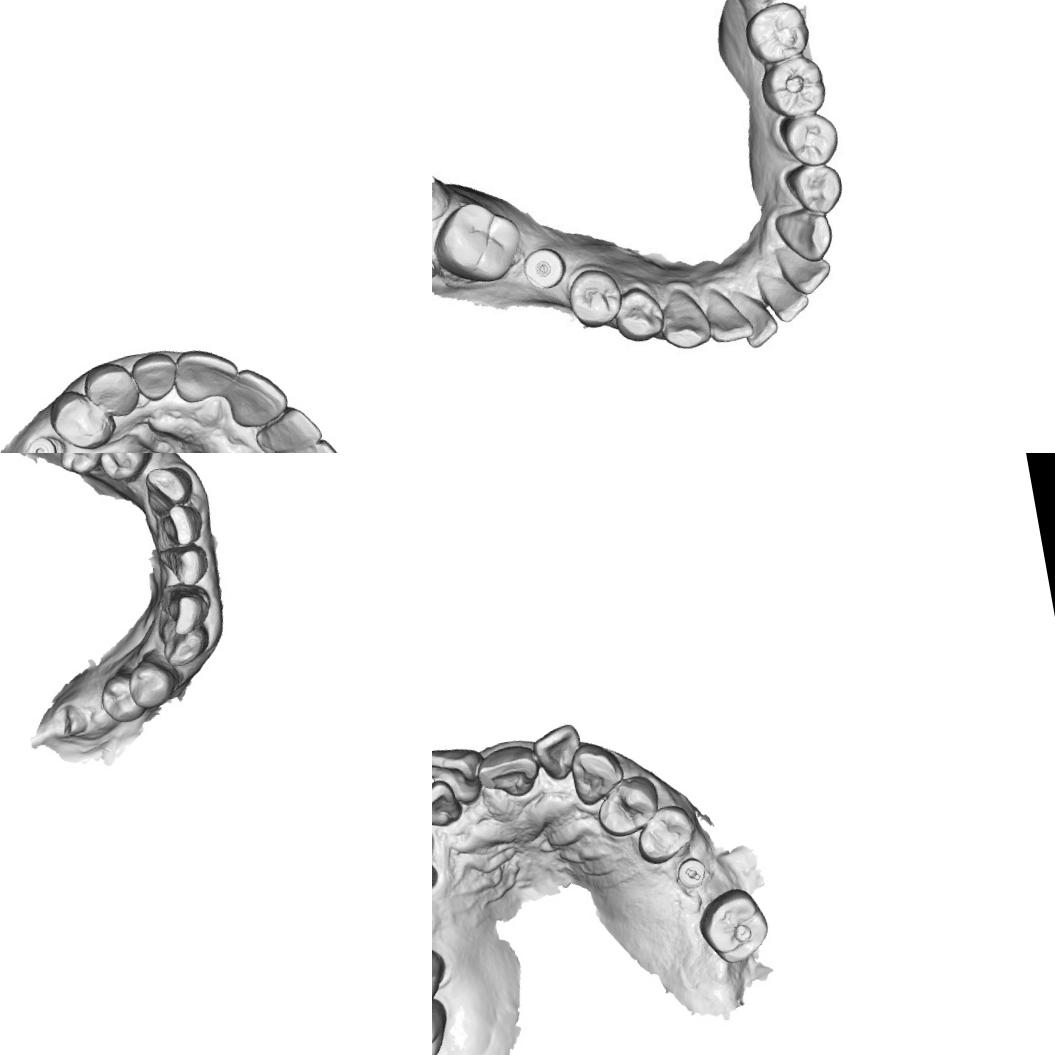canine: (566, 737, 628, 807), (80, 356, 144, 421), (654, 282, 710, 355), (773, 206, 834, 266), (154, 610, 212, 668), (140, 461, 198, 516), (263, 434, 346, 453)
implant: (514, 244, 572, 294), (20, 432, 66, 453)
implant_minus: (672, 854, 710, 892)
incisor: (168, 341, 243, 406), (471, 739, 544, 804), (222, 361, 290, 430), (432, 739, 491, 812), (250, 400, 324, 453), (528, 720, 587, 784), (758, 266, 813, 328), (779, 244, 837, 302), (158, 580, 216, 638), (148, 498, 208, 552), (727, 288, 780, 348), (700, 285, 750, 348), (155, 540, 216, 591), (128, 348, 182, 404), (432, 776, 464, 832)
molar: (432, 190, 525, 288), (692, 882, 774, 969), (748, 51, 832, 121), (738, 0, 815, 65), (432, 930, 451, 1017)
premolar: (44, 382, 120, 453), (591, 771, 663, 839), (630, 800, 698, 866), (778, 112, 846, 170), (565, 264, 626, 327), (784, 159, 846, 219), (610, 282, 668, 345), (122, 653, 180, 711), (95, 668, 146, 727), (94, 453, 157, 483), (53, 453, 118, 480)
